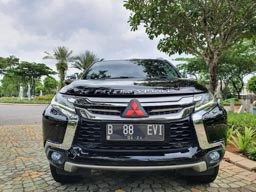plat: (106, 123, 163, 136)
